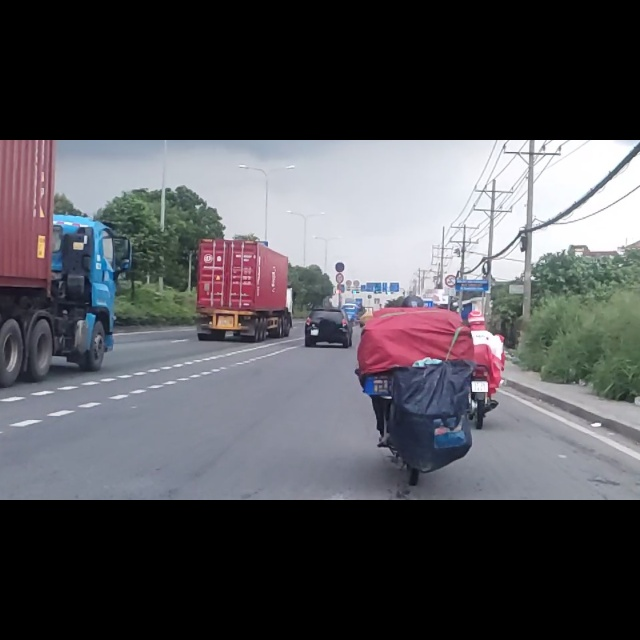bien_chi_dan: (444, 239, 457, 262), (334, 216, 345, 235)
